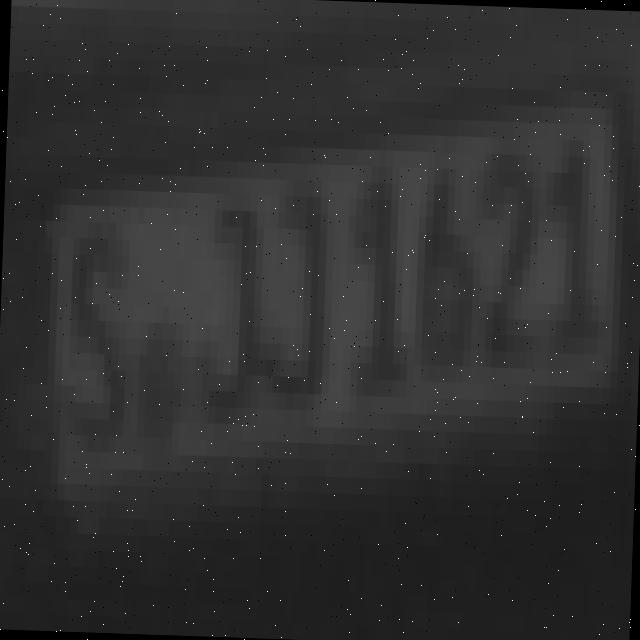Autre: (4, 94, 616, 499)
